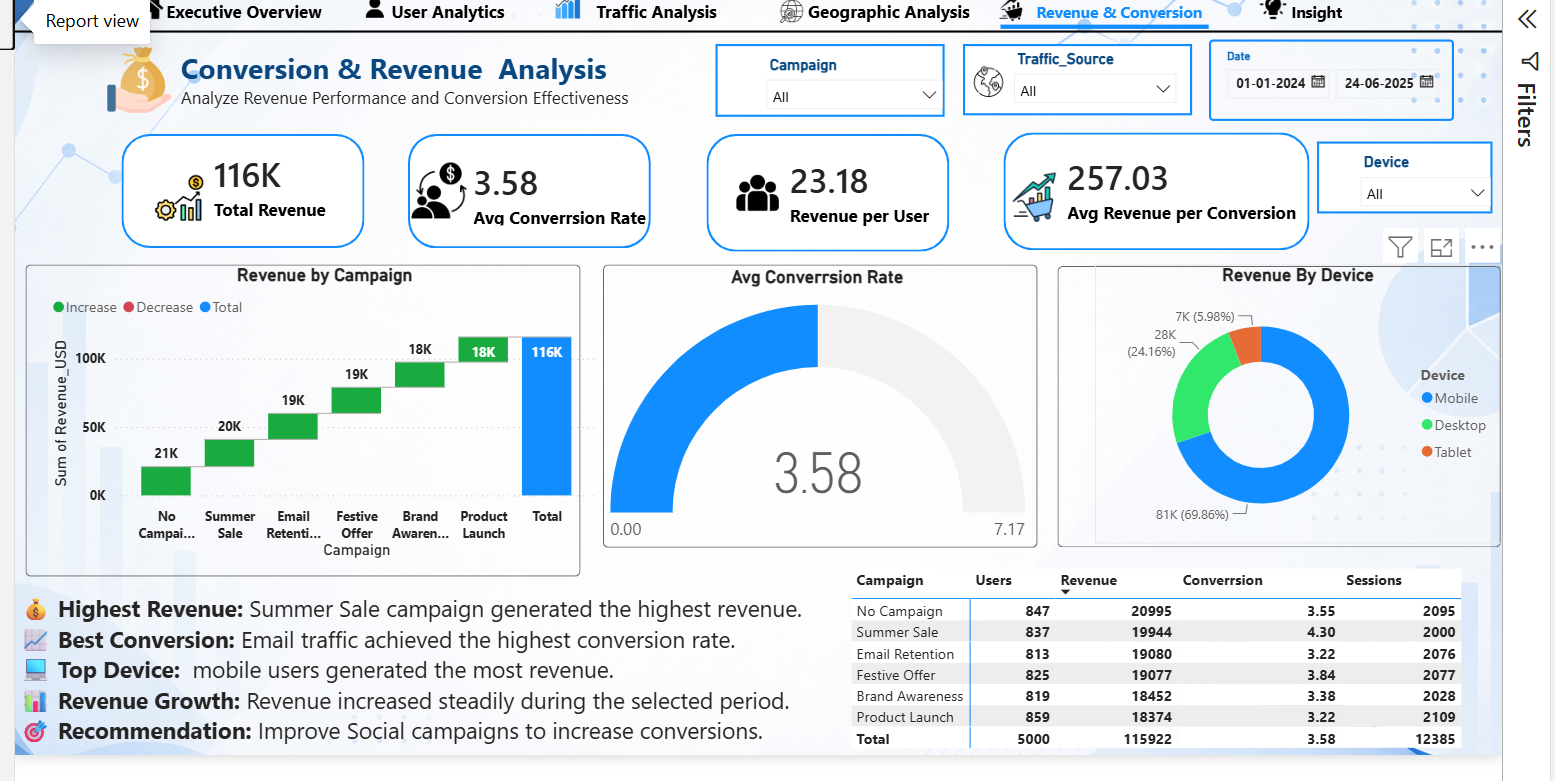

The dashboard page shown, as its layout file describes it:
{"tool":"powerbi","page":{"name":"Conversion & Revenue  Analysis","canvas":[1400,720],"ordinal":4},"visuals":[{"type":"shape","box":[660,51.4,215.7,68.6],"z":0},{"type":"shape","box":[892.9,51.4,215.7,67.1],"z":1000},{"type":"textbox","box":[151.1,49.4,451.9,73.4],"z":2000},{"type":"actionButton","box":[131.3,0,168.5,40.5],"z":3000},{"type":"actionButton","box":[337.5,0,140.3,40.3],"z":4000},{"type":"actionButton","box":[533.3,0,140.3,40.3],"z":5000},{"type":"actionButton","box":[956.2,0,166.9,40.5],"z":6000},{"type":"actionButton","box":[740.6,0,165.3,40.5],"z":7000},{"type":"actionButton","box":[1161.1,0,129.2,40.3],"z":8000},{"type":"shape","box":[0,33.1,1500.5,13.2],"z":9000},{"type":"shape","box":[927.8,28.2,196.3,12.7],"z":10000},{"type":"image","box":[112.5,0,26.4,33.3],"z":11000},{"type":"image","box":[329,3.2,19.4,27.6],"z":12000},{"type":"image","box":[508.9,3.2,24.3,24.3],"z":13000},{"type":"image","box":[706.9,8.3,47.2,23.6],"z":14000},{"type":"image","box":[914.1,1.6,48.6,29.2],"z":15000},{"type":"image","box":[1161.1,0,47.2,27.8],"z":16000},{"type":"slicer","fields":{"Values":["Digital_Marketing_Data.Date"]},"box":[1123.6,47.2,230.6,76.4],"z":17000},{"type":"slicer","fields":{"Values":["Digital_Marketing_Data.Traffic_Source"]},"box":[930,51.4,172.9,75.7],"z":18000},{"type":"image","box":[898.6,71.4,37.1,28.6],"z":19000},{"type":"shape","box":[369.3,135.8,228.6,107.7],"z":20000},{"type":"shape","box":[100.3,135.6,228.8,107.3],"z":21000},{"type":"shape","box":[650.9,135.8,228.6,111],"z":22000},{"type":"shape","box":[930.8,134.1,288.2,111],"z":23000},{"type":"cardVisual","fields":{"Data":["Digital_Marketing_Data.Avg Converrsion Rate"]},"box":[402.4,142.4,226.9,96.1],"z":24000},{"type":"cardVisual","fields":{"Data":["Digital_Marketing_Data.Revenue per User"]},"box":[700.6,137.5,225.2,104.3],"z":25000},{"type":"cardVisual","fields":{"Data":["Digital_Marketing_Data.Avg Revenue per Conversion"]},"box":[962.2,135.8,294.8,102.7],"z":26000},{"type":"cardVisual","fields":{"Data":["Sum(Digital_Marketing_Data.Revenue_USD)"]},"box":[158.2,131.3,213.2,104.5],"z":27000},{"type":"shape","box":[9.9,258.4,522.5,293.7],"z":28000},{"type":"shape","box":[553.2,258.4,409.1,266.6],"z":29000},{"type":"shape","box":[982.1,260,417.4,265],"z":30000},{"type":"slicer","fields":{"Values":["Digital_Marketing_Data.Campaign"]},"box":[697.1,57.1,185.7,77.1],"z":31000},{"type":"image","box":[131.3,162.4,46.6,66.4],"z":32000},{"type":"image","box":[665.8,170.6,67.9,39.7],"z":33000},{"type":"image","box":[83.3,53.7,67.8,62.1],"z":34000},{"type":"image","box":[362.7,162.3,72.9,53],"z":35000},{"type":"image","box":[917.5,168.9,82.8,51.3],"z":36000},{"type":"waterfallChart","title":" Revenue by Campaign","fields":{"Category":["Digital_Marketing_Data.Campaign"],"Y":["Sum(Digital_Marketing_Data.Revenue_USD)"]},"box":[29.7,258.4,523.9,281],"z":37000},{"type":"gauge","fields":{"Y":["Digital_Marketing_Data.Avg Converrsion Rate"]},"box":[554.8,260,400.8,279.9],"z":38000},{"type":"donutChart","title":"Revenue By Device","fields":{"Category":["Digital_Marketing_Data.Device"],"Y":["Sum(Digital_Marketing_Data.Revenue_USD)"]},"box":[1016.9,258.4,382.6,263.3],"z":39000},{"type":"textbox","box":[0,561.4,748.6,159],"z":40000},{"type":"shape","box":[1225.8,142.6,165.2,67.8],"z":41000},{"type":"slicer","fields":{"Values":["Digital_Marketing_Data.Device"]},"box":[1256.9,148.3,142.6,67.8],"z":42000},{"type":"pivotTable","fields":{"Rows":["Digital_Marketing_Data.Campaign"],"Values":["Sum(Digital_Marketing_Data.Users)","Sum(Digital_Marketing_Data.Revenue_USD)","Digital_Marketing_Data.Avg Converrsion Rate","Sum(Digital_Marketing_Data.Sessions)","Digital_Marketing_Data.Revenue per User"]},"box":[781.7,539.9,586.3,180.5],"z":43000}]}

Visuals, with their boxes on the page's 1400x720 design canvas (x1, y1, x2, y2). These are canvas units, not pixel positions in the 1555x781 screenshot, which may show the page scaled, cropped or inside an application window:
shape: select_region(660, 51, 876, 120)
shape: select_region(893, 51, 1109, 118)
textbox: select_region(151, 49, 603, 123)
actionButton: select_region(131, 0, 300, 40)
actionButton: select_region(338, 0, 478, 40)
actionButton: select_region(533, 0, 674, 40)
actionButton: select_region(956, 0, 1123, 40)
actionButton: select_region(741, 0, 906, 40)
actionButton: select_region(1161, 0, 1290, 40)
shape: select_region(0, 33, 1500, 46)
shape: select_region(928, 28, 1124, 41)
image: select_region(112, 0, 139, 33)
image: select_region(329, 3, 348, 31)
image: select_region(509, 3, 533, 28)
image: select_region(707, 8, 754, 32)
image: select_region(914, 2, 963, 31)
image: select_region(1161, 0, 1208, 28)
slicer - Digital_Marketing_Data.Date: select_region(1124, 47, 1354, 124)
slicer - Digital_Marketing_Data.Traffic_Source: select_region(930, 51, 1103, 127)
image: select_region(899, 71, 936, 100)
shape: select_region(369, 136, 598, 244)
shape: select_region(100, 136, 329, 243)
shape: select_region(651, 136, 880, 247)
shape: select_region(931, 134, 1219, 245)
cardVisual - Digital_Marketing_Data.Avg Converrsion Rate: select_region(402, 142, 629, 238)
cardVisual - Digital_Marketing_Data.Revenue per User: select_region(701, 138, 926, 242)
cardVisual - Digital_Marketing_Data.Avg Revenue per Conversion: select_region(962, 136, 1257, 238)
cardVisual - Sum(Digital_Marketing_Data.Revenue_USD): select_region(158, 131, 371, 236)
shape: select_region(10, 258, 532, 552)
shape: select_region(553, 258, 962, 525)
shape: select_region(982, 260, 1400, 525)
slicer - Digital_Marketing_Data.Campaign: select_region(697, 57, 883, 134)
image: select_region(131, 162, 178, 229)
image: select_region(666, 171, 734, 210)
image: select_region(83, 54, 151, 116)
image: select_region(363, 162, 436, 215)
image: select_region(918, 169, 1000, 220)
" Revenue by Campaign" waterfallChart: select_region(30, 258, 554, 539)
gauge - Digital_Marketing_Data.Avg Converrsion Rate: select_region(555, 260, 956, 540)
"Revenue By Device" donutChart: select_region(1017, 258, 1400, 522)
textbox: select_region(0, 561, 749, 720)
shape: select_region(1226, 143, 1391, 210)
slicer - Digital_Marketing_Data.Device: select_region(1257, 148, 1400, 216)
pivotTable - Digital_Marketing_Data.Campaign x Sum(Digital_Marketing_Data.Users): select_region(782, 540, 1368, 720)
